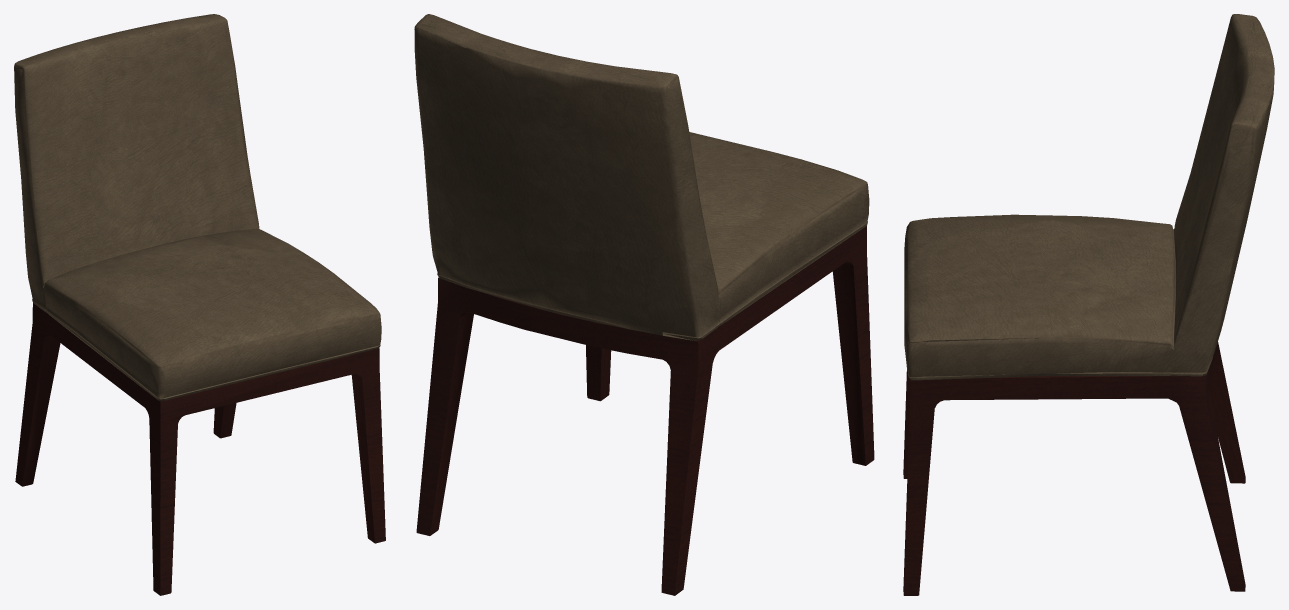
File: Chair.FBX
The picture shows the model from 3 angles, left to right: view 1: azimuth 30°, elevation 25°; view 2: azimuth 150°, elevation 25°; view 3: azimuth 270°, elevation 25°; orthographic projection. The views are drawn at different scales.
Visible parts, largest first — view 1: Chair; view 2: Chair; view 3: Chair.
Boxes of the visible parts, bbox=[...] form: Chair: bbox=[14, 14, 385, 595]; Chair: bbox=[414, 14, 874, 595]; Chair: bbox=[903, 14, 1274, 595].
Size of the model in its own units: 46.78 by 82.65 by 59.56.
Materials: 1 (1 with a texture image).
